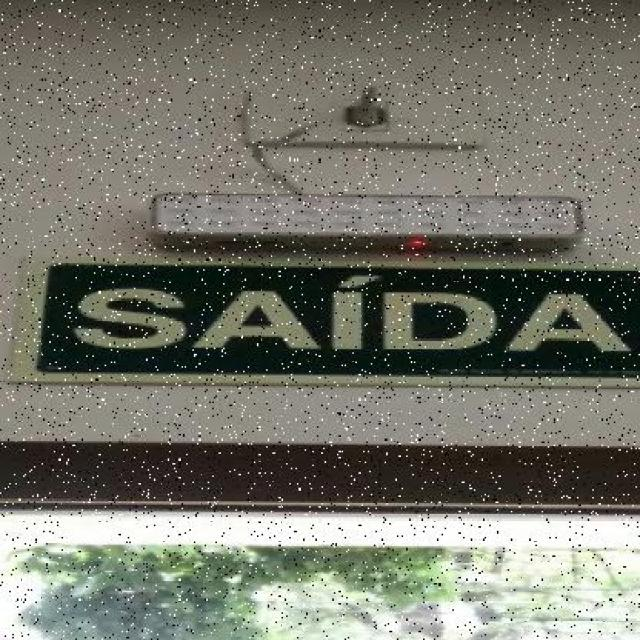emergency_exit: (36, 262, 639, 380), (151, 192, 584, 246)
